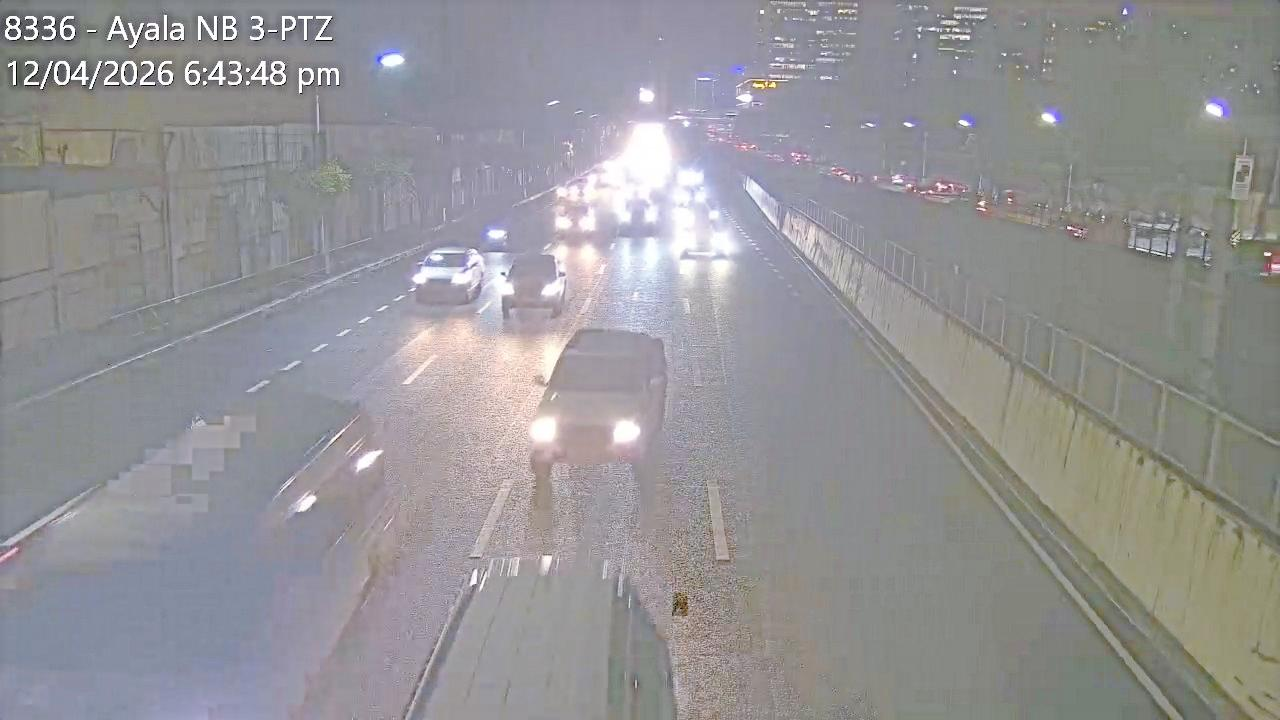Car: (34, 396, 393, 703), (397, 537, 686, 720), (527, 327, 667, 480), (499, 252, 566, 318), (413, 246, 486, 303), (676, 211, 736, 270), (550, 182, 602, 241), (616, 190, 666, 248)
Motor: (483, 208, 512, 255)
